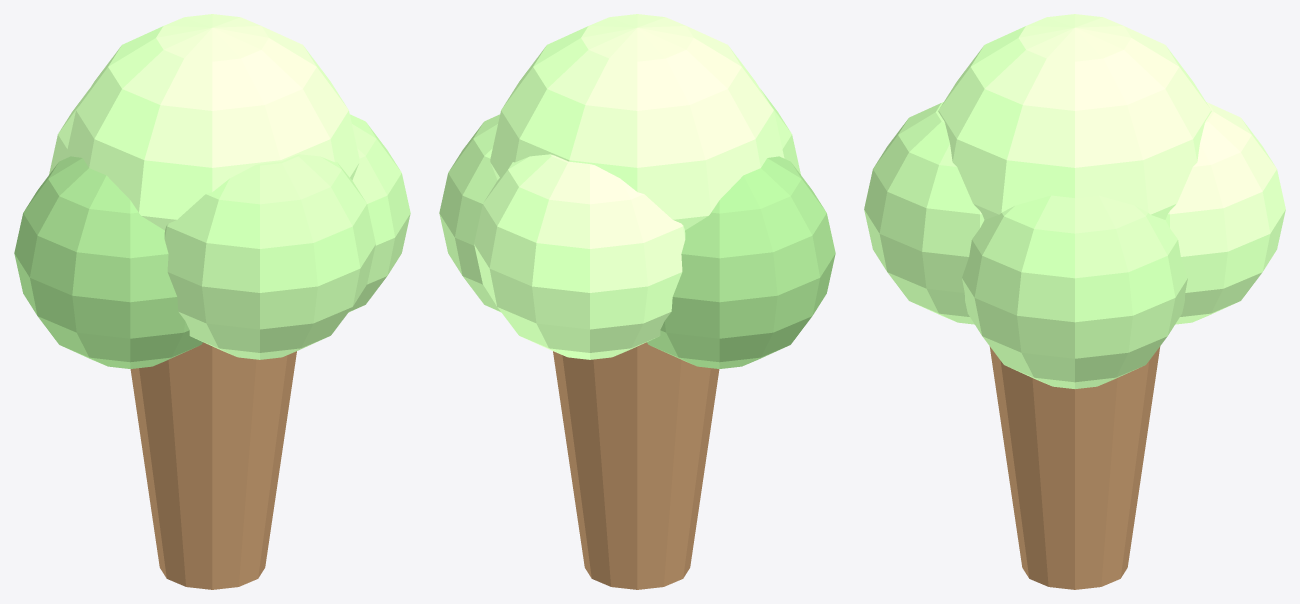
Rendered from tree.glb.
3 views of the same model, side by side, from view 1: azimuth 30°, elevation 25°; view 2: azimuth 150°, elevation 25°; view 3: azimuth 270°, elevation 25° (orthographic).
Parts seen in each view (by area): view 1: tree; view 2: tree; view 3: tree.
Part boxes in pixels (x1,y1,x2,y2): tree: (14, 14, 410, 589); tree: (439, 14, 835, 589); tree: (864, 14, 1285, 589).
Bounding box in the file's own units: 0.8 × 1.13 × 0.8.
